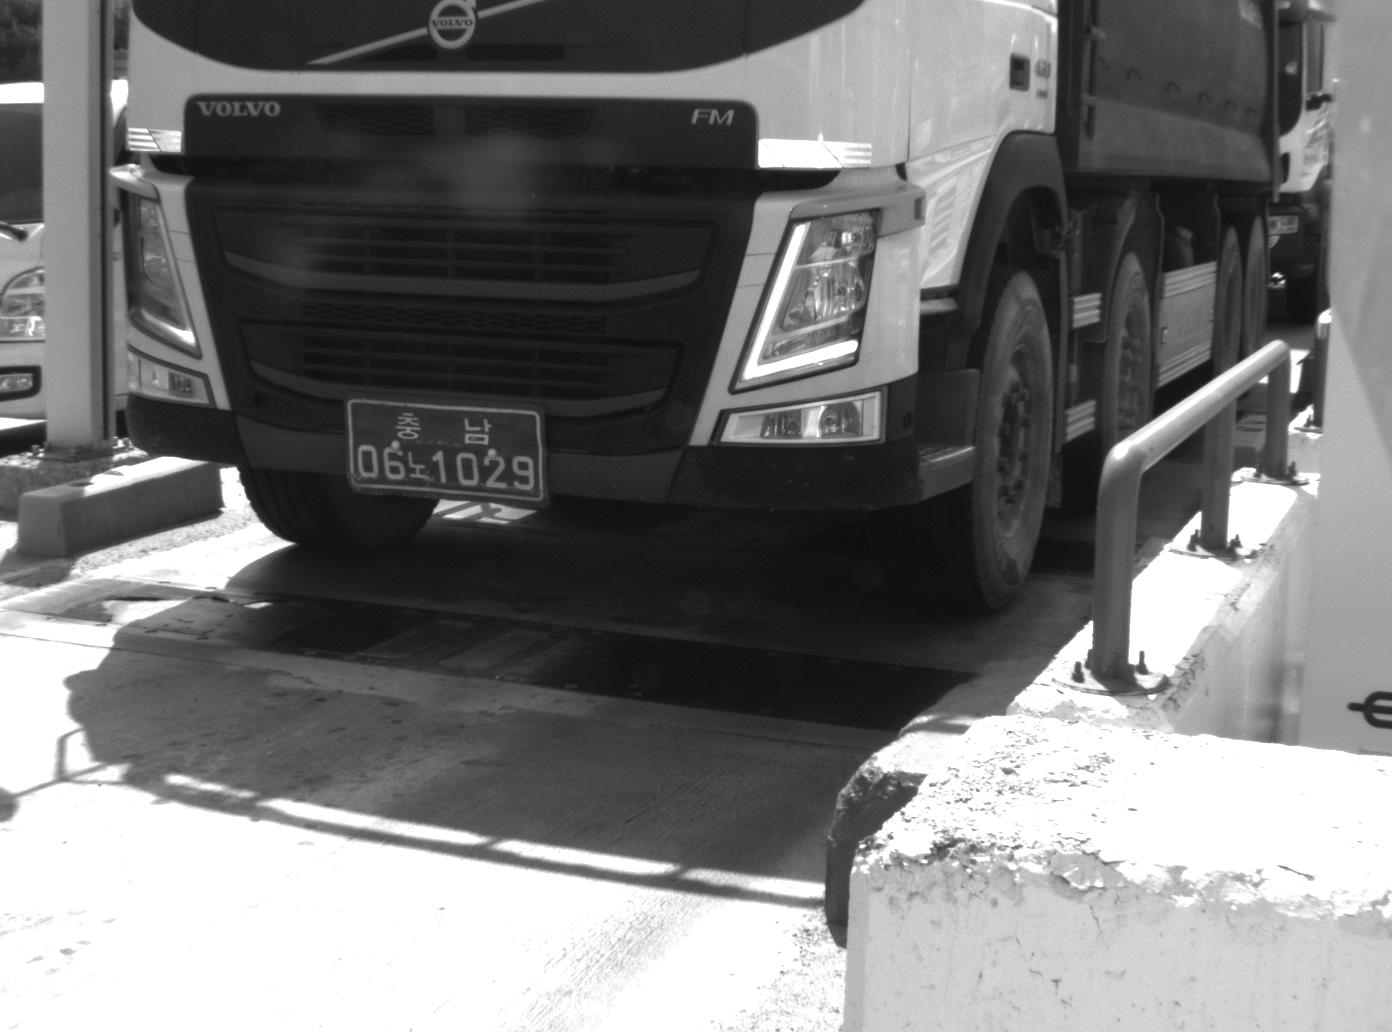car: (100, 1, 1284, 630), (1, 75, 141, 446)
plate: (342, 395, 548, 501)
